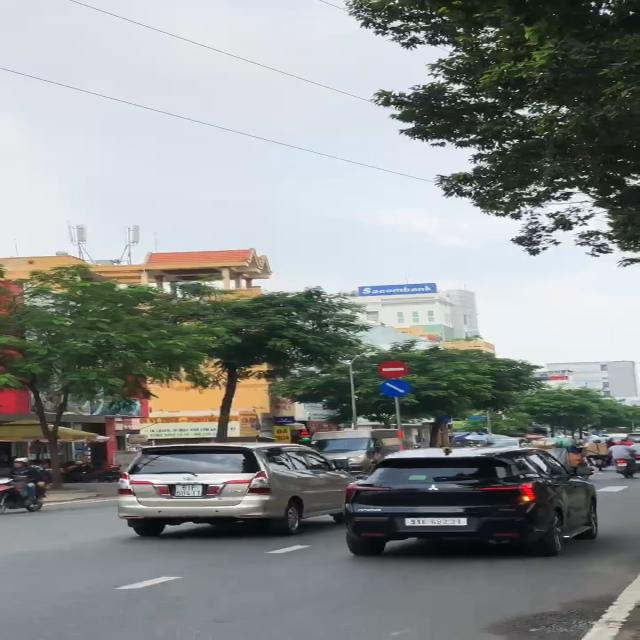Bien bao cam di nguoc chieu: (376, 360, 414, 378)
Bien bao huong phai di vong chuong ngai vat: (377, 378, 418, 398)
